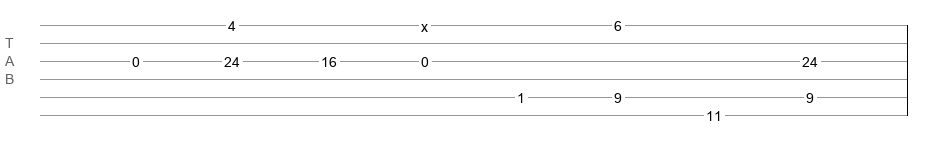0: (132, 54, 140, 64), (421, 54, 429, 64)
1: (517, 90, 525, 100)
11: (706, 108, 722, 118)
16: (321, 54, 337, 64)
24: (224, 54, 240, 64), (802, 54, 818, 64)
4: (228, 18, 236, 28)
6: (614, 18, 622, 28)
9: (614, 90, 622, 100), (806, 90, 814, 100)
x: (421, 19, 428, 27)
